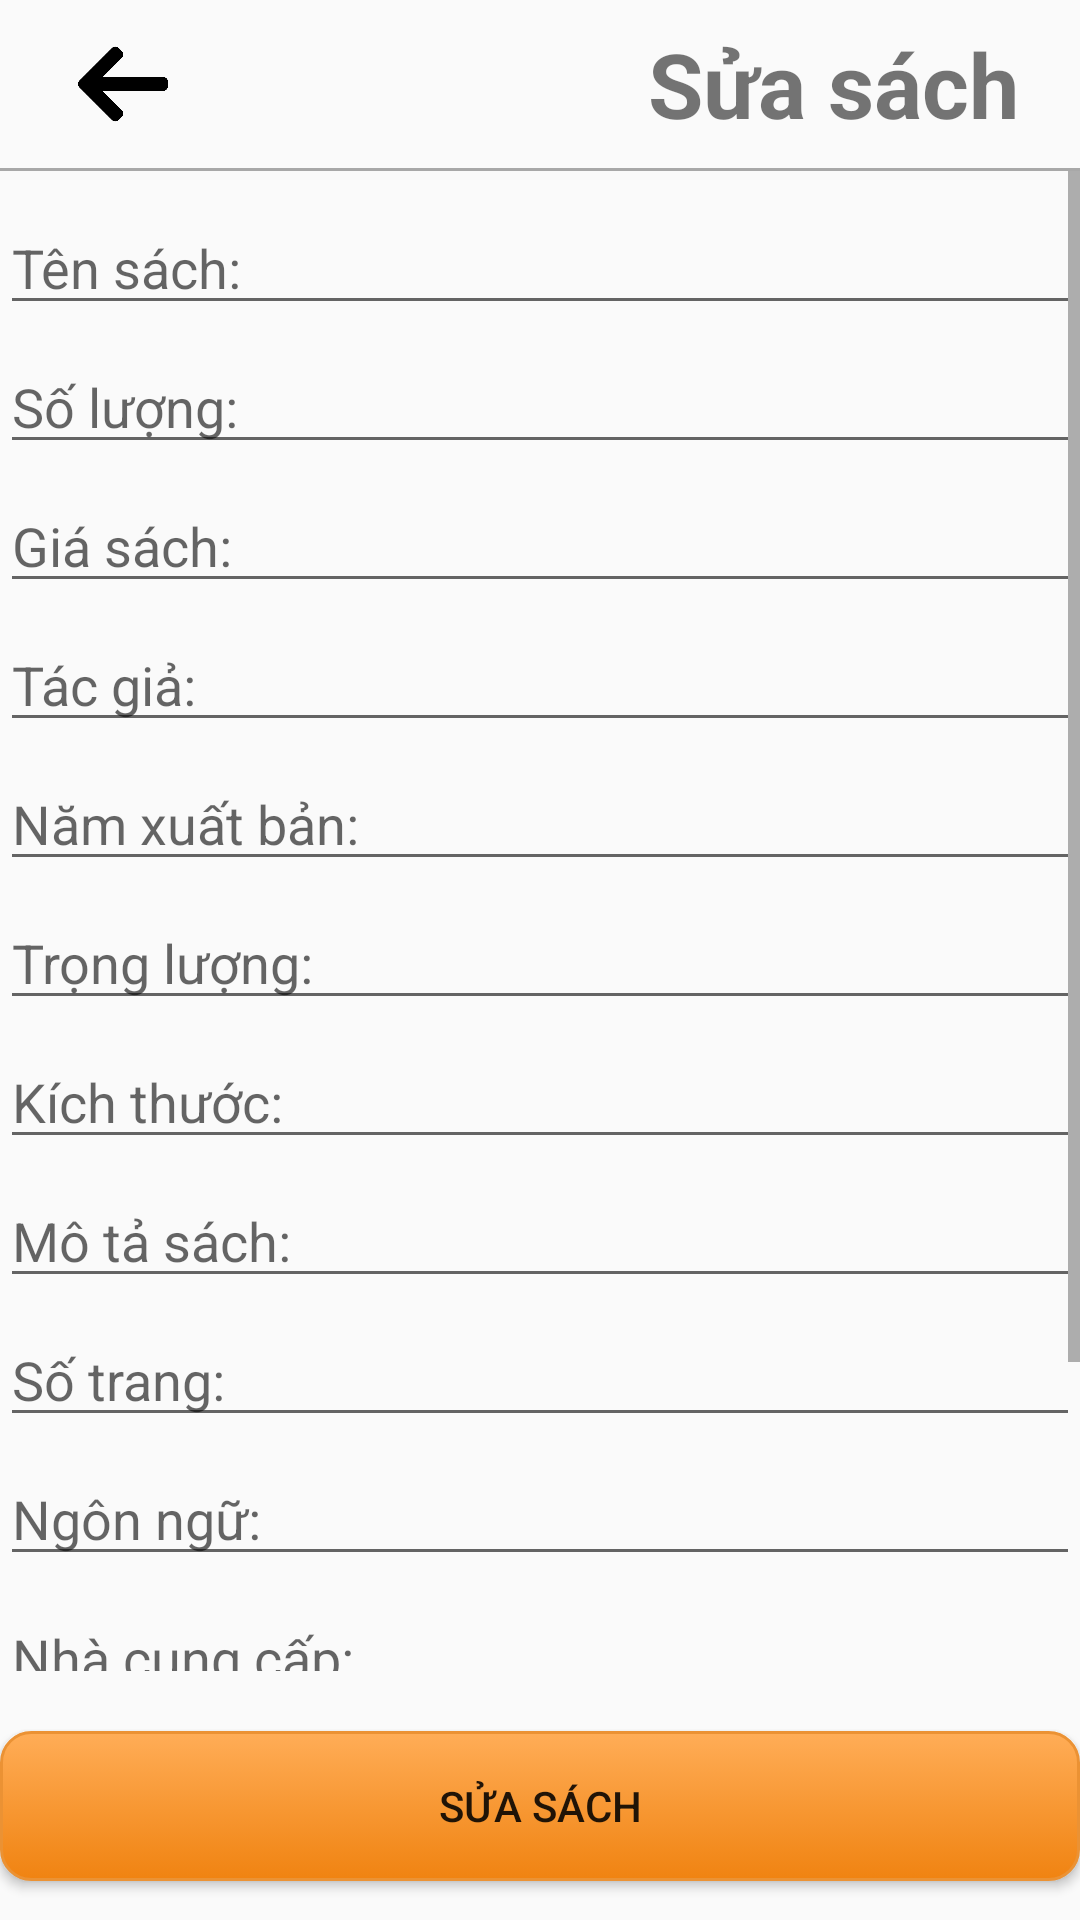

Screen size 1080x1920. Icon name, then its center in pixels as [x,y]:
left arrow: [123,84]
